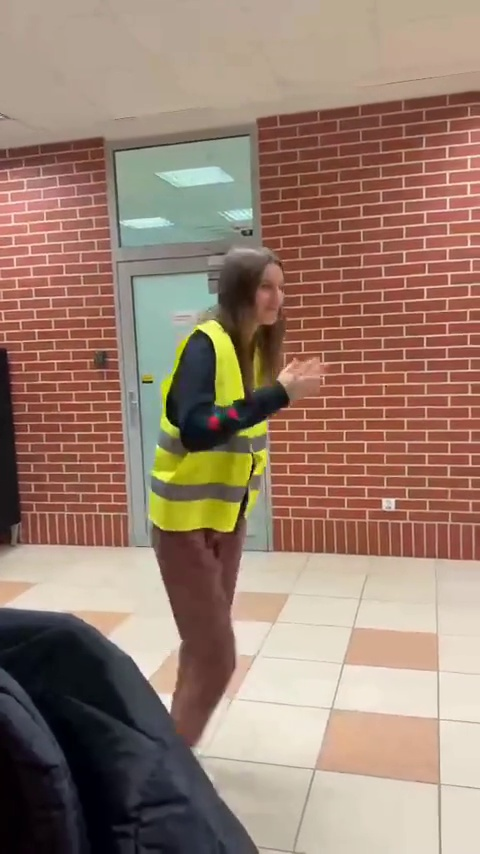vest: (144, 241, 305, 740)
